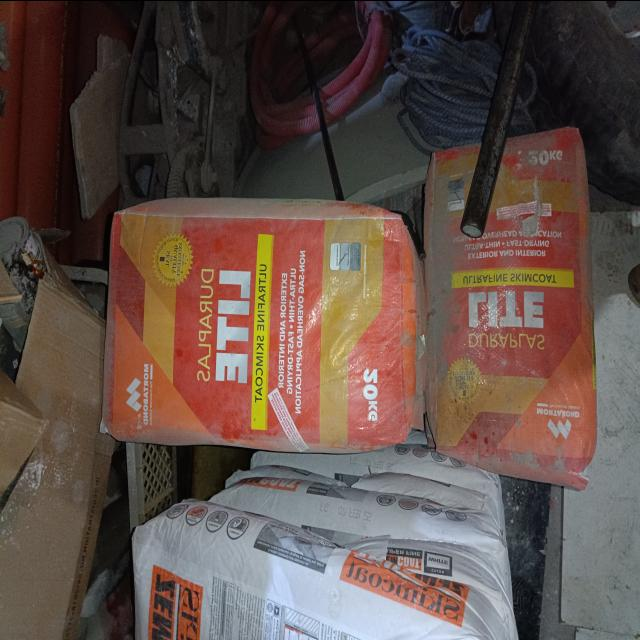Skim coat: (119, 207, 397, 447), (439, 136, 591, 464)
